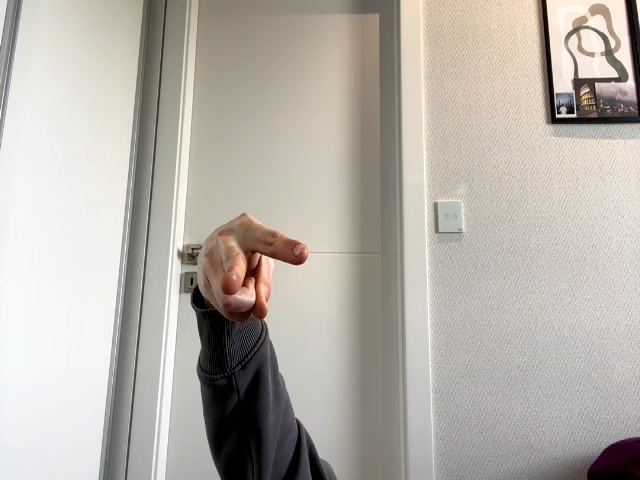U: (198, 214, 308, 323)
